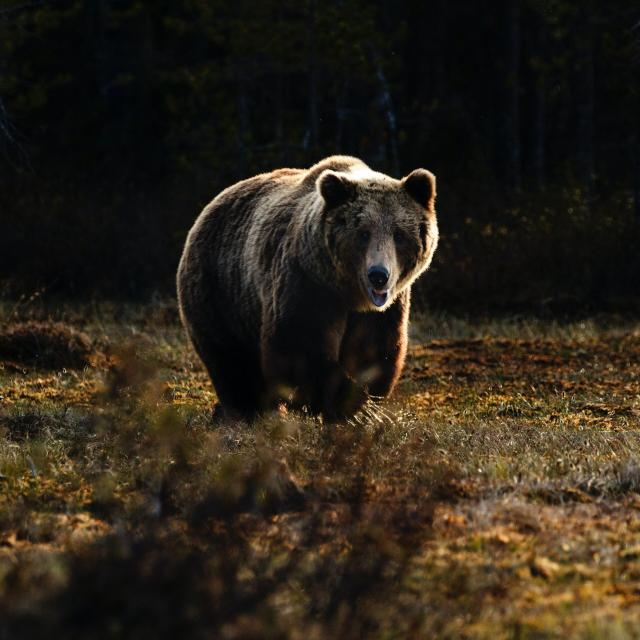Bear: (176, 156, 440, 425)
